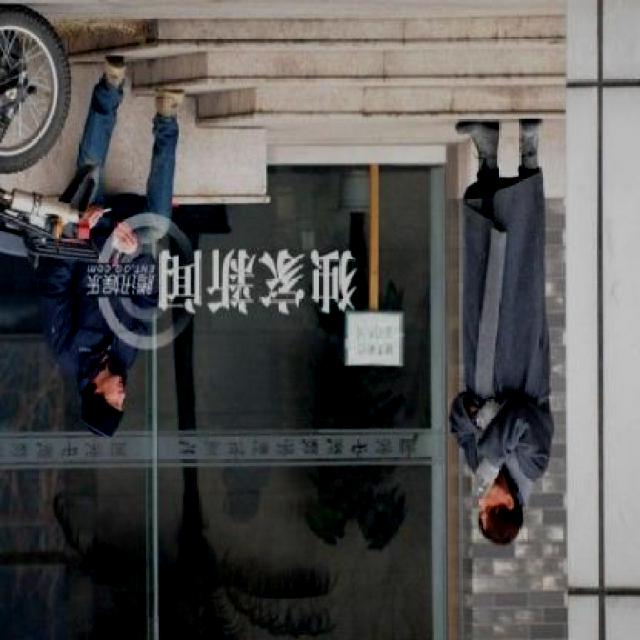smoke: (478, 486, 486, 494)
